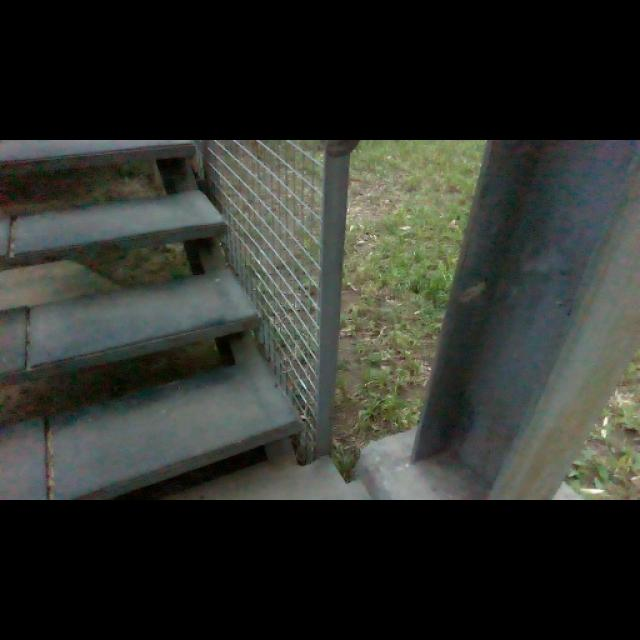stair: (4, 143, 282, 469)
